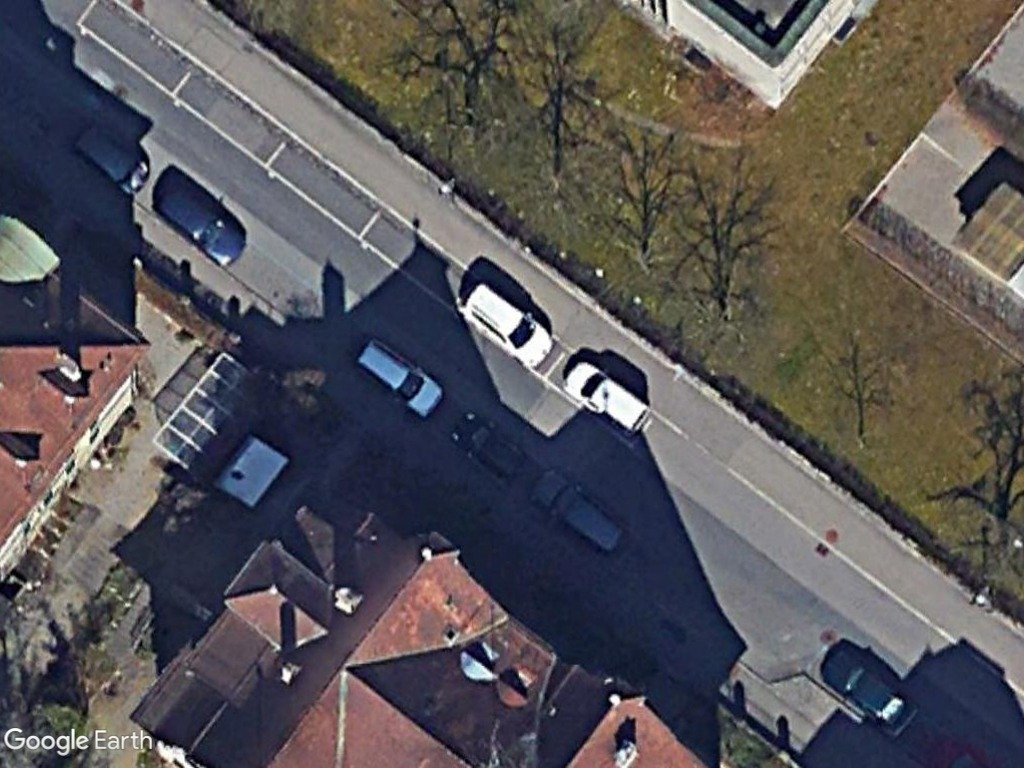car: (528, 461, 640, 567), (455, 276, 558, 370), (822, 642, 919, 740), (155, 181, 251, 271), (562, 354, 658, 441), (351, 335, 445, 417)
